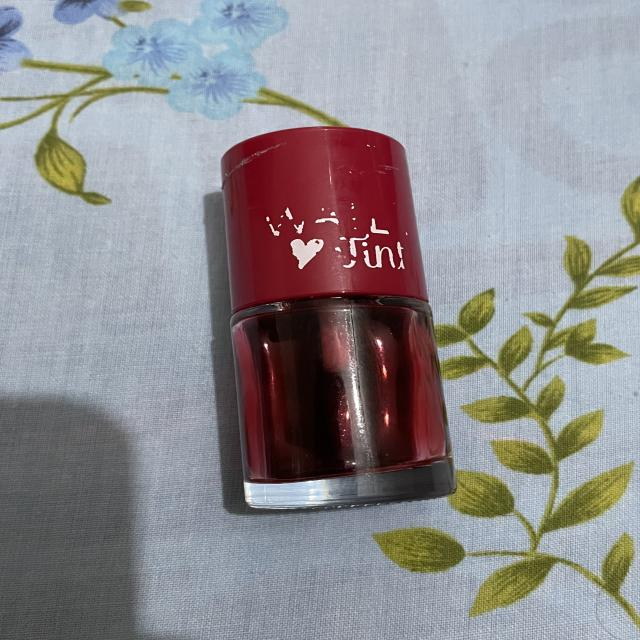Tint: (187, 116, 481, 508)
